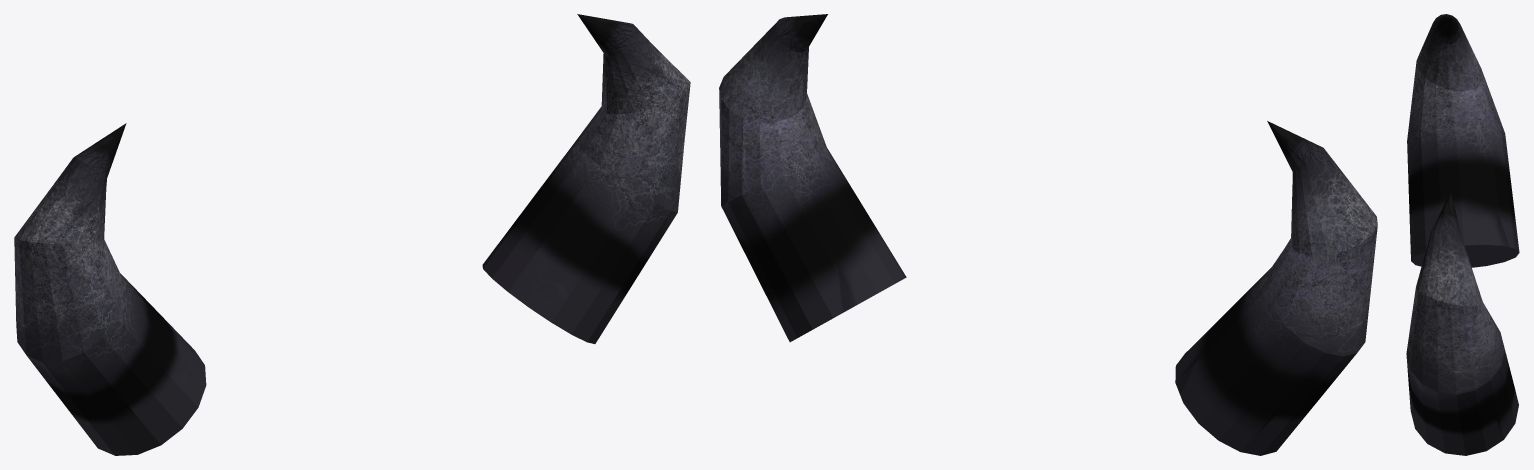
The model's file is horns.fbx.
3 renders of one model, left to right at view 1: azimuth 30°, elevation 25°; view 2: azimuth 150°, elevation 25°; view 3: azimuth 270°, elevation 25°, orthographic. The views are drawn at different scales.
Visible parts, largest first — view 1: horns; view 2: horns; view 3: horns.
Part boxes in pixels (box(x1,y1,x2,y2)): horns: box(14, 14, 690, 455); horns: box(719, 14, 1377, 455); horns: box(1406, 14, 1519, 455).
Size of the model in its own units: 0.688 by 0.3245 by 0.1289.
Materials: 1 (1 with a texture image).
